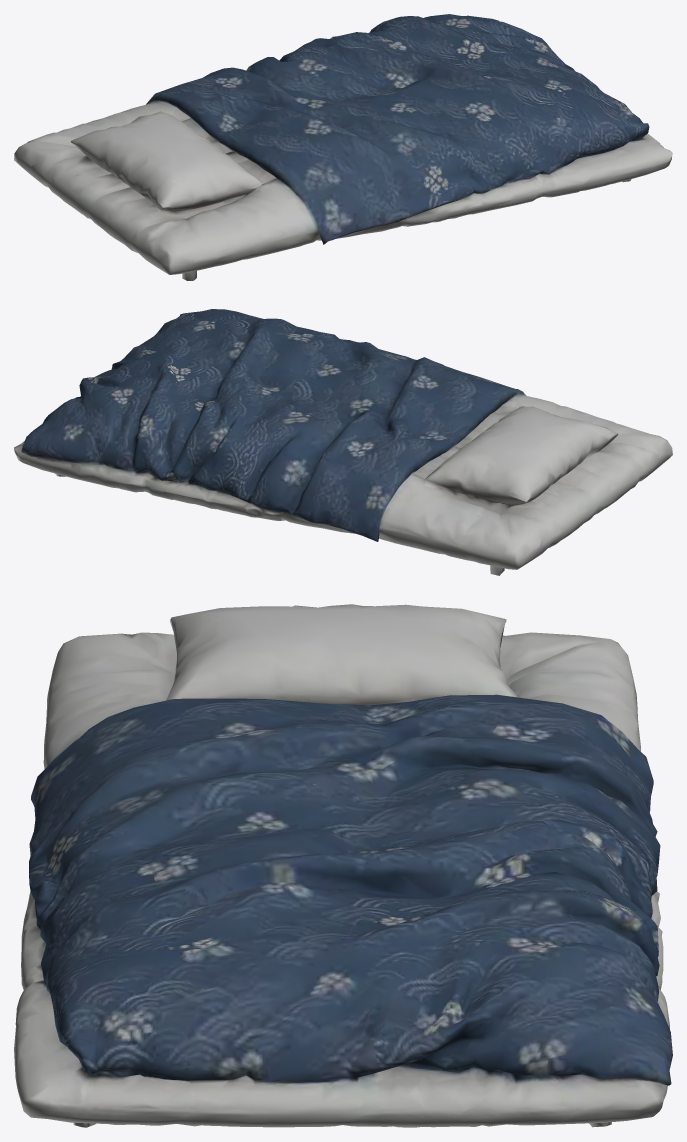
Rendered from futon.glb.
The picture shows the model from 3 angles, top to bottom: view 1: azimuth 30°, elevation 25°; view 2: azimuth 150°, elevation 25°; view 3: azimuth 270°, elevation 25°; orthographic projection. The views are drawn at different scales.
Parts seen in each view (by area): view 1: tripo_node_ffec988c-f262-46bf-8c72-b87941af6ce6; view 2: tripo_node_ffec988c-f262-46bf-8c72-b87941af6ce6; view 3: tripo_node_ffec988c-f262-46bf-8c72-b87941af6ce6.
Part boxes in pixels (bbox=[...]): tripo_node_ffec988c-f262-46bf-8c72-b87941af6ce6: bbox=[14, 14, 672, 280]; tripo_node_ffec988c-f262-46bf-8c72-b87941af6ce6: bbox=[14, 309, 672, 575]; tripo_node_ffec988c-f262-46bf-8c72-b87941af6ce6: bbox=[14, 604, 672, 1127].
Size of the model in its own units: 1 by 0.1779 by 0.6172.
1 material, 1 textured.
